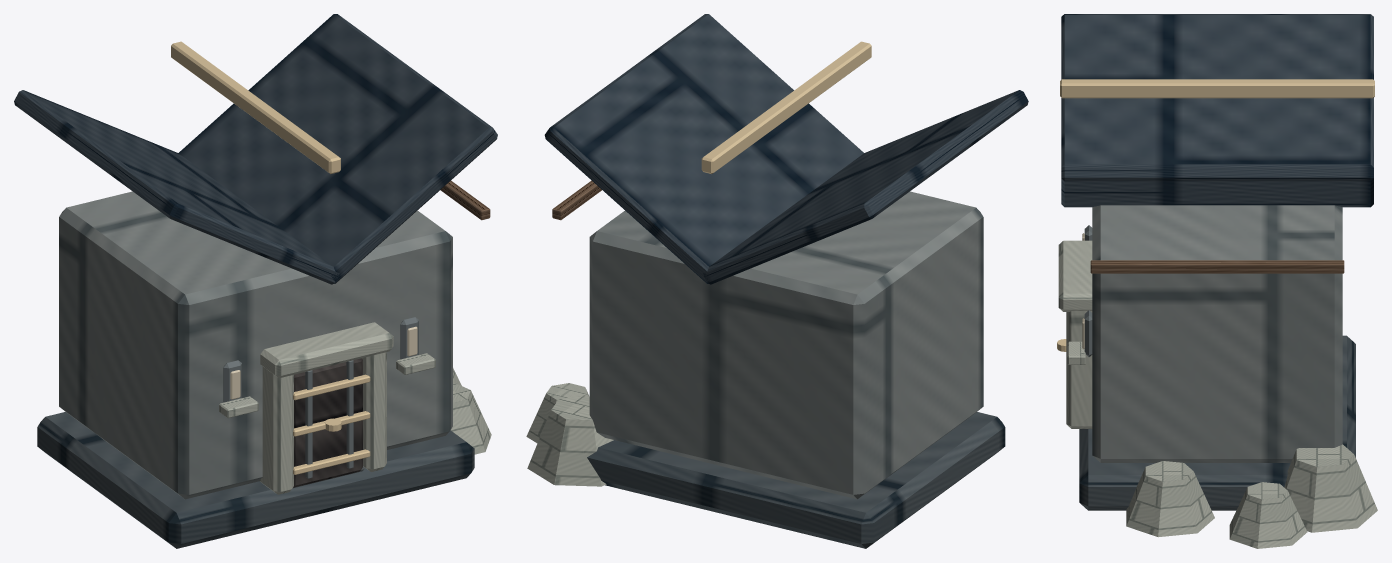
The model's file is Stoneworks.glb.
3 renders of one model, left to right at view 1: azimuth 30°, elevation 25°; view 2: azimuth 150°, elevation 25°; view 3: azimuth 270°, elevation 25°, orthographic.
Parts seen in each view (by area): view 1: Stoneworks body, Stoneworks roof/right, Stoneworks raised sill, Stoneworks roof/left, Two oak gate leaves.003, Lintel crown.003, Stoneworks roof/ridge, Gate pier.006, Gate pier.007, Dressed quarry boulder, Crane beam, Gate iron hinge.006 (+5 smaller); view 2: Stoneworks body, Stoneworks roof/right, Stoneworks raised sill, Stoneworks roof/left, Dressed quarry boulder.002, Stoneworks roof/ridge, Dressed quarry boulder.001, Crane beam; view 3: Stoneworks body, Stoneworks roof/left, Stoneworks roof/right, Stoneworks raised sill, Stoneworks roof/ridge, Dressed quarry boulder.002, Dressed quarry boulder, Dressed quarry boulder.001, Crane beam, Lintel crown.003, Gate pier.007, Window sill.007 (+1 smaller).
Boxes of the visible parts, x1,y1,x2,y2 form: Stoneworks body: [59, 191, 452, 499]; Stoneworks roof/right: [178, 14, 497, 283]; Stoneworks raised sill: [37, 412, 474, 548]; Stoneworks roof/left: [14, 90, 339, 284]; Two oak gate leaves.003: [293, 358, 362, 487]; Lintel crown.003: [260, 322, 393, 378]; Stoneworks roof/ridge: [171, 41, 340, 173]; Gate pier.006: [259, 366, 293, 494]; Gate pier.007: [362, 352, 386, 471]; Dressed quarry boulder: [450, 383, 491, 454]; Crane beam: [440, 180, 490, 220]; Gate iron hinge.006: [305, 370, 312, 478]; Stoneworks body: [589, 191, 983, 499]; Stoneworks roof/right: [544, 14, 863, 283]; Stoneworks raised sill: [587, 412, 1005, 548]; Stoneworks roof/left: [703, 90, 1028, 284]; Dressed quarry boulder.002: [527, 395, 613, 486]; Stoneworks roof/ridge: [701, 41, 871, 173]; Dressed quarry boulder.001: [526, 383, 588, 443]; Crane beam: [552, 180, 601, 220]; Stoneworks body: [1092, 205, 1342, 462]; Stoneworks roof/left: [1061, 14, 1373, 167]; Stoneworks roof/right: [1061, 164, 1373, 207]; Stoneworks raised sill: [1079, 335, 1355, 510]; Stoneworks roof/ridge: [1060, 79, 1374, 98]; Dressed quarry boulder.002: [1284, 444, 1377, 532]; Dressed quarry boulder: [1126, 461, 1214, 537]; Dressed quarry boulder.001: [1229, 482, 1307, 548]; Crane beam: [1090, 260, 1344, 273]; Lintel crown.003: [1058, 240, 1092, 311]; Gate pier.007: [1066, 311, 1092, 428]; Window sill.007: [1067, 341, 1085, 364].
Bounding box in the file's own units: 5.47 × 4.85 × 3.92.
Materials: 11 (7 with a texture image).
